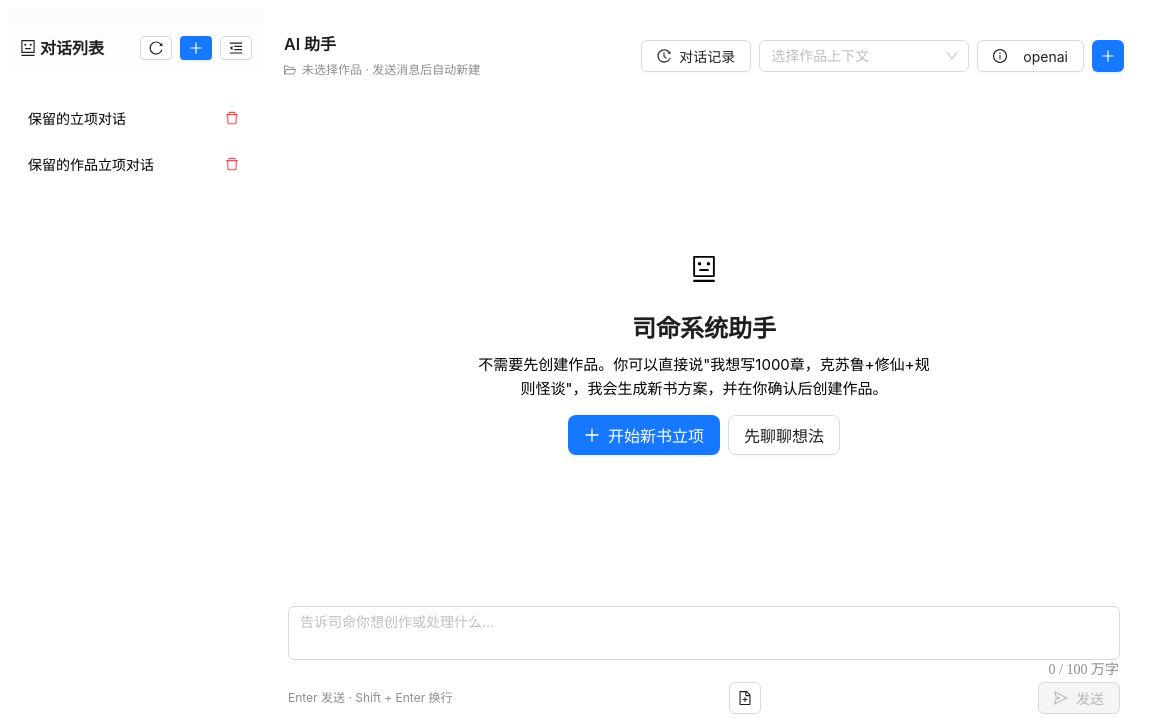
Test: GuiAssistantChat new-book handoff › does not render deleted works, their creation data, or their conversations anywhere
The width and height of the screenshot is (1152, 720).
Expected: the text "保留的立项对话" is shown, left=28, top=112, right=126, bottom=127
Expected: the text "保留的作品立项对话" is shown, left=28, top=158, right=154, bottom=173
Click the dropdown named "选择作品上下文": (855, 56) left=771, top=41, right=939, bottom=71
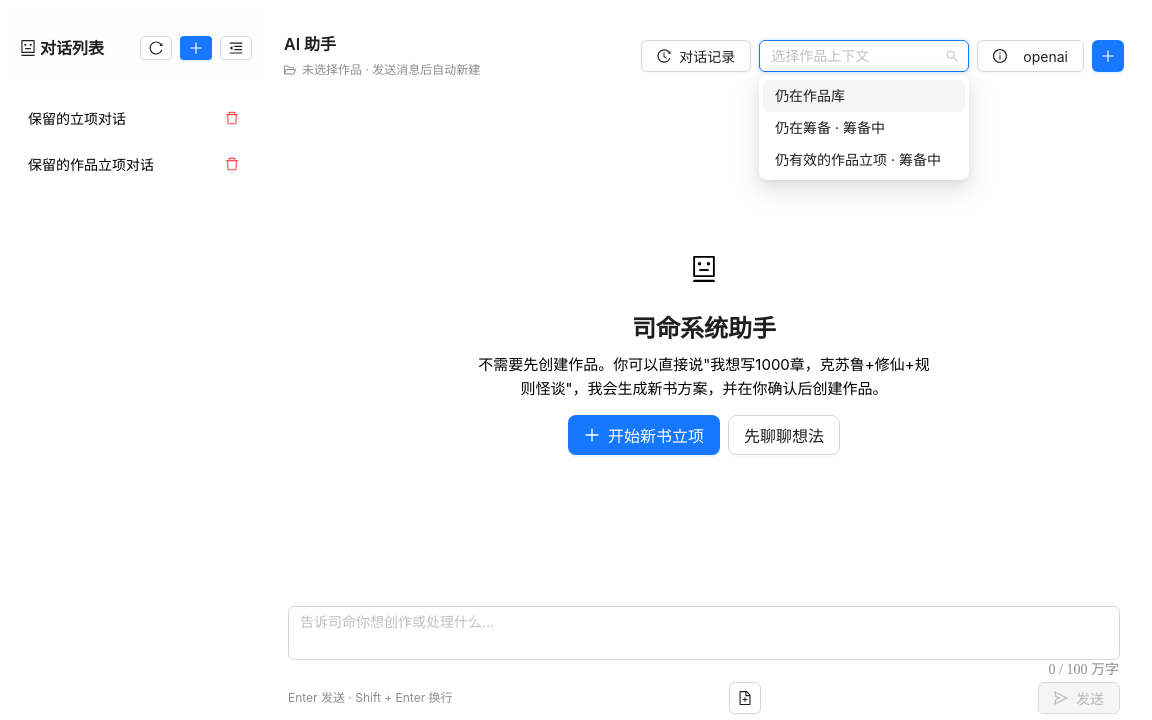
Expected: the text "仍在筹备 · 筹备中" is shown, left=775, top=119, right=885, bottom=136
Expected: the text "仍有效的作品立项 · 筹备中" is shown, left=775, top=149, right=953, bottom=171
